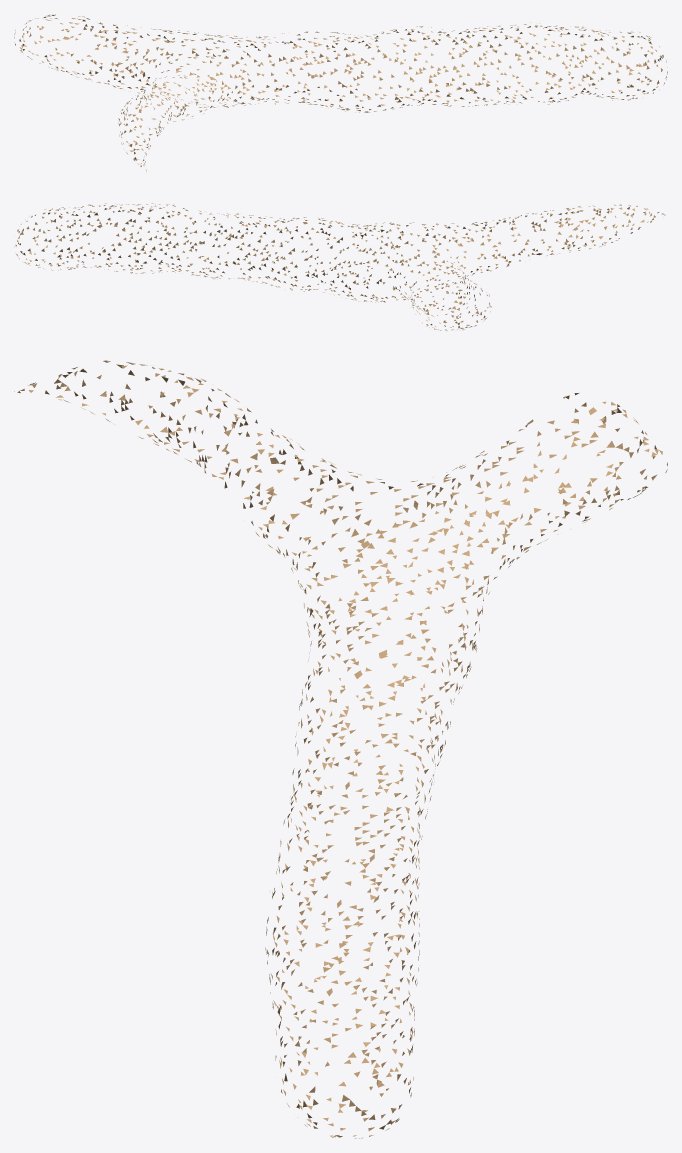
Rendered from morph_006.glb.
3 renders of one model, top to bottom at view 1: azimuth 30°, elevation 25°; view 2: azimuth 150°, elevation 25°; view 3: azimuth 270°, elevation 25°, orthographic. The views are drawn at different scales.
Bounding box in the file's own units: 117 × 29.13 × 60.56.
